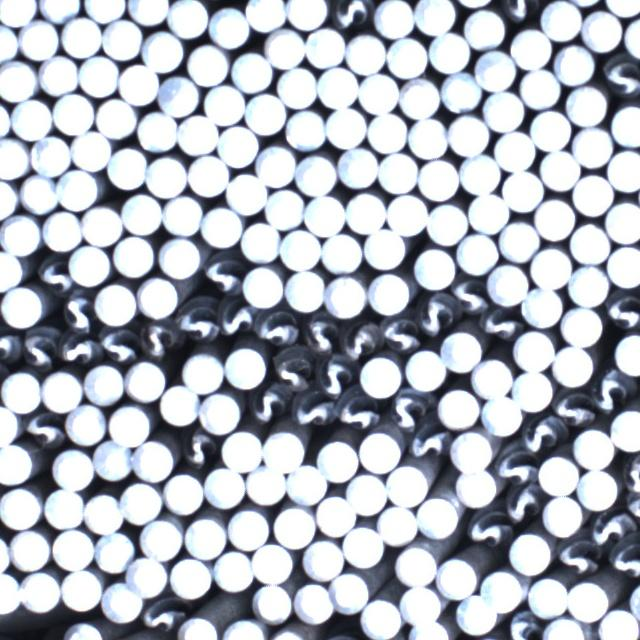tool: (184, 513, 227, 559), (161, 469, 204, 514), (200, 203, 243, 247), (271, 502, 314, 546), (500, 167, 543, 211), (401, 583, 444, 627), (60, 566, 102, 611), (8, 525, 50, 570), (160, 193, 203, 236), (51, 445, 94, 488), (416, 495, 459, 538), (227, 505, 269, 549), (203, 463, 245, 507), (224, 170, 268, 212), (66, 243, 109, 285), (241, 264, 283, 307), (50, 527, 93, 569), (106, 401, 149, 443), (40, 369, 82, 412), (100, 580, 143, 622), (243, 91, 285, 134), (359, 596, 401, 639), (553, 343, 595, 386), (106, 146, 147, 190), (83, 360, 124, 404), (283, 268, 324, 312), (519, 285, 563, 326), (94, 279, 135, 323), (346, 468, 386, 513), (55, 167, 97, 209), (250, 580, 292, 622), (394, 542, 436, 584), (0, 284, 42, 326), (525, 575, 567, 617), (199, 391, 241, 433), (185, 43, 227, 85), (218, 124, 260, 166), (359, 354, 401, 396), (133, 438, 174, 481), (341, 524, 382, 567), (137, 274, 178, 317), (118, 481, 161, 522), (362, 227, 405, 268), (81, 491, 122, 534), (0, 484, 41, 527), (125, 554, 166, 597), (139, 517, 182, 558), (435, 558, 478, 599), (509, 532, 552, 573), (417, 156, 458, 199), (276, 64, 317, 107), (474, 49, 515, 92), (304, 191, 344, 235), (559, 305, 603, 345), (571, 124, 611, 168), (331, 568, 370, 613), (250, 542, 292, 583), (320, 230, 362, 271), (581, 9, 622, 51), (169, 556, 210, 598), (279, 227, 321, 268), (40, 208, 81, 250), (301, 538, 342, 580), (369, 272, 410, 314), (120, 191, 161, 233), (572, 426, 613, 468), (156, 75, 198, 116), (0, 369, 41, 411), (510, 27, 552, 68), (42, 487, 84, 528), (487, 262, 528, 304), (404, 350, 445, 392), (564, 84, 606, 125), (454, 595, 497, 635), (542, 494, 582, 537), (304, 24, 344, 67), (158, 238, 201, 278), (538, 147, 578, 190), (124, 358, 164, 401), (0, 211, 39, 255), (212, 550, 253, 591), (69, 129, 110, 170), (94, 96, 135, 137), (344, 191, 385, 232), (413, 245, 454, 286), (264, 27, 305, 68), (204, 82, 245, 123), (145, 154, 186, 195), (295, 150, 336, 191), (291, 581, 332, 622), (520, 67, 561, 108), (566, 579, 607, 620), (448, 115, 489, 156), (143, 31, 184, 72), (230, 51, 271, 92), (325, 275, 366, 316), (567, 223, 608, 264), (262, 429, 303, 470), (359, 430, 400, 471), (459, 153, 500, 194), (454, 466, 495, 507), (429, 31, 469, 73), (78, 54, 118, 96), (92, 439, 132, 481), (368, 110, 408, 152), (54, 91, 94, 133), (20, 570, 60, 612), (317, 66, 357, 108), (576, 468, 618, 508), (327, 108, 367, 150), (224, 346, 264, 388), (554, 43, 596, 83), (425, 202, 465, 244), (529, 245, 569, 287), (187, 153, 227, 195), (484, 568, 524, 610), (484, 90, 524, 132), (532, 198, 574, 238), (457, 231, 496, 274), (64, 403, 105, 443), (10, 97, 50, 138), (101, 18, 141, 59), (387, 36, 427, 77), (240, 220, 280, 261), (264, 187, 304, 228), (112, 234, 152, 275), (377, 150, 417, 191), (511, 372, 552, 412), (286, 464, 326, 505), (209, 5, 249, 46), (469, 192, 509, 233), (345, 33, 385, 74), (93, 531, 133, 572), (387, 193, 428, 233), (528, 110, 569, 150), (537, 453, 577, 494), (497, 221, 537, 262), (386, 465, 427, 505), (136, 109, 175, 151), (464, 8, 506, 47), (441, 71, 480, 113), (443, 328, 482, 370), (81, 205, 121, 245), (18, 19, 58, 59), (470, 357, 510, 397), (221, 429, 261, 469), (318, 439, 358, 479), (450, 428, 490, 468), (540, 0, 581, 39), (29, 133, 68, 174), (246, 464, 285, 505), (437, 389, 478, 428), (490, 131, 531, 170), (512, 331, 553, 370), (572, 170, 610, 212), (358, 72, 397, 112), (61, 18, 101, 57), (398, 77, 438, 116), (376, 504, 416, 543), (175, 115, 215, 154), (183, 352, 223, 391), (285, 110, 324, 150), (119, 61, 158, 101), (408, 116, 447, 156), (159, 385, 199, 424), (339, 147, 377, 188), (18, 172, 56, 213), (166, 0, 208, 37), (256, 144, 293, 186), (39, 55, 78, 94), (568, 264, 606, 304), (372, 0, 413, 37), (605, 244, 640, 287), (605, 148, 640, 191), (315, 495, 353, 534), (603, 203, 640, 243), (0, 59, 36, 100), (0, 442, 34, 484), (414, 0, 455, 34), (484, 397, 521, 434), (598, 608, 640, 640), (285, 0, 328, 29), (611, 407, 640, 450), (245, 0, 285, 31), (0, 136, 28, 178), (611, 105, 640, 145), (614, 332, 640, 374), (543, 614, 584, 640), (177, 615, 219, 640), (222, 617, 265, 640), (126, 0, 168, 23), (408, 616, 448, 640), (0, 248, 22, 290), (0, 0, 37, 24), (38, 0, 80, 21), (61, 619, 103, 640), (84, 0, 124, 22), (0, 571, 20, 613), (0, 176, 19, 219), (0, 403, 19, 444), (0, 22, 17, 63)
tool_b: (386, 385, 434, 433), (333, 387, 383, 433), (265, 348, 316, 393), (400, 422, 453, 464), (498, 483, 544, 529), (174, 299, 219, 346), (292, 384, 336, 432), (199, 250, 242, 299), (463, 505, 512, 548), (416, 287, 458, 337), (339, 315, 383, 362), (517, 406, 559, 454), (255, 302, 298, 348), (495, 437, 535, 486), (301, 308, 340, 358), (473, 301, 521, 341), (247, 384, 290, 428), (33, 251, 76, 294), (591, 370, 636, 410), (584, 511, 631, 548), (316, 355, 358, 396), (178, 427, 221, 467), (452, 274, 492, 316), (59, 287, 96, 332), (603, 57, 640, 101), (140, 319, 180, 359), (381, 313, 422, 352), (22, 408, 62, 446), (99, 326, 139, 364), (554, 390, 594, 427), (22, 325, 57, 367), (609, 534, 640, 581), (557, 537, 594, 576), (219, 296, 254, 337), (607, 293, 640, 336), (142, 598, 183, 632), (61, 328, 96, 364), (495, 0, 544, 23), (507, 609, 542, 640), (620, 455, 640, 495), (0, 328, 19, 362)
